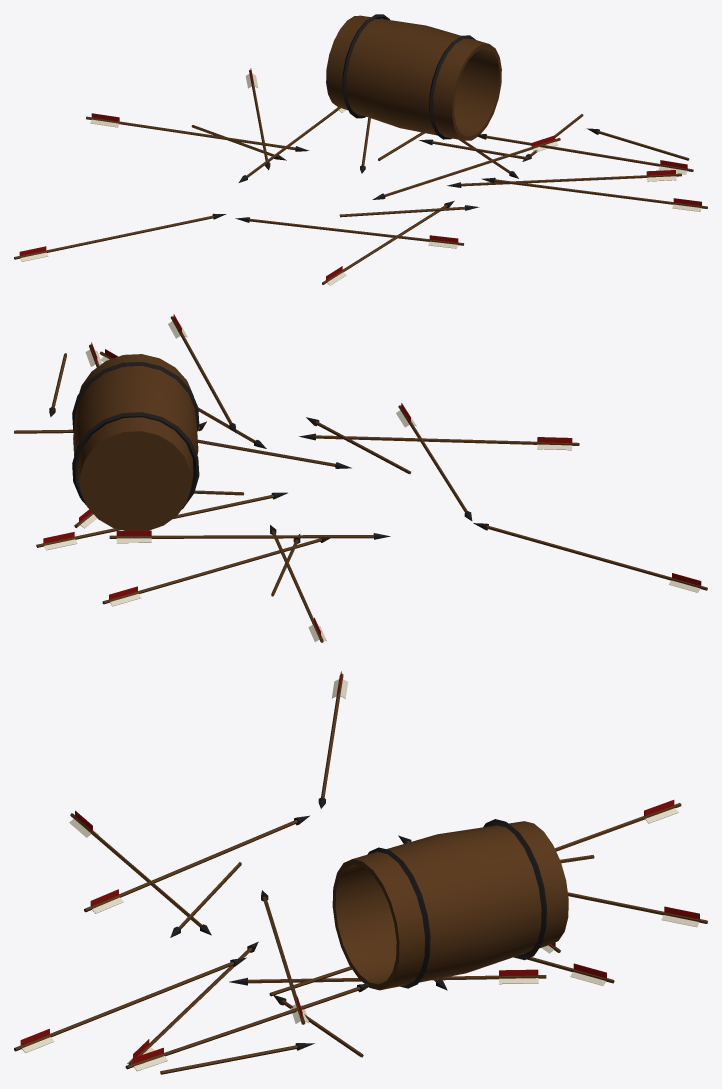
File: pfeilbuendel_kaputt.glb
3 views of the same model, one above another, from view 1: azimuth 30°, elevation 25°; view 2: azimuth 150°, elevation 25°; view 3: azimuth 270°, elevation 25° (orthographic). The views are drawn at different scales.
Visible parts, largest first — view 1: pfeilbuendel_kaputt; view 2: pfeilbuendel_kaputt; view 3: pfeilbuendel_kaputt.
Boxes of the visible parts, x1,y1,x2,y2 form: pfeilbuendel_kaputt: (14, 14, 707, 285); pfeilbuendel_kaputt: (14, 314, 707, 642); pfeilbuendel_kaputt: (14, 671, 707, 1074).
Bounding box in the file's own units: 2.38 × 0.3686 × 1.75.
